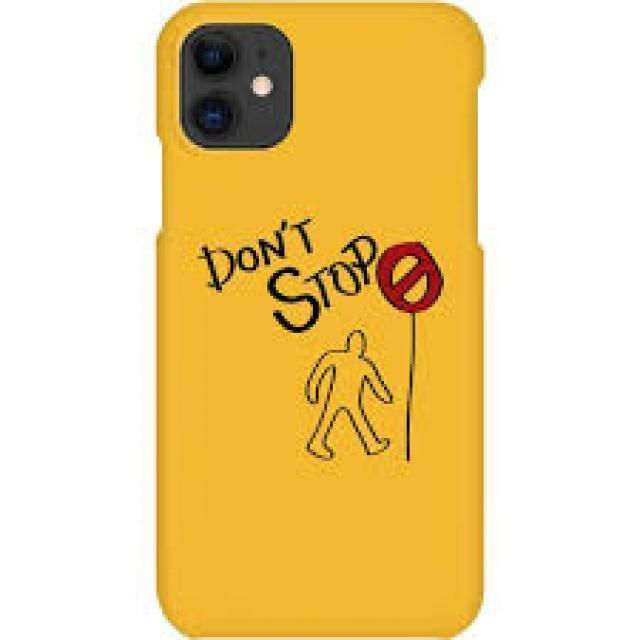phone: (158, 1, 488, 634)
